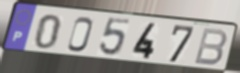0: (33, 13, 64, 50), (66, 16, 95, 53)
4: (130, 22, 157, 61)
5: (98, 16, 132, 59)
7: (169, 24, 195, 64)
B: (192, 27, 229, 67)
